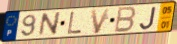9: (19, 13, 39, 38)
B: (113, 5, 138, 33)
J: (139, 6, 157, 31)
L: (66, 11, 84, 35)
N: (37, 11, 62, 38)
V: (90, 7, 112, 35)
